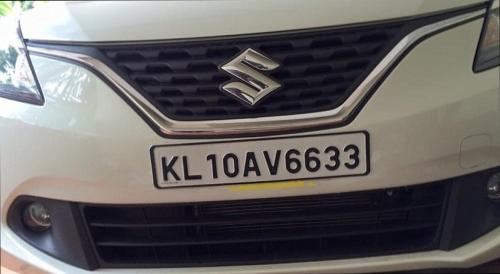plate: (145, 133, 395, 196)
